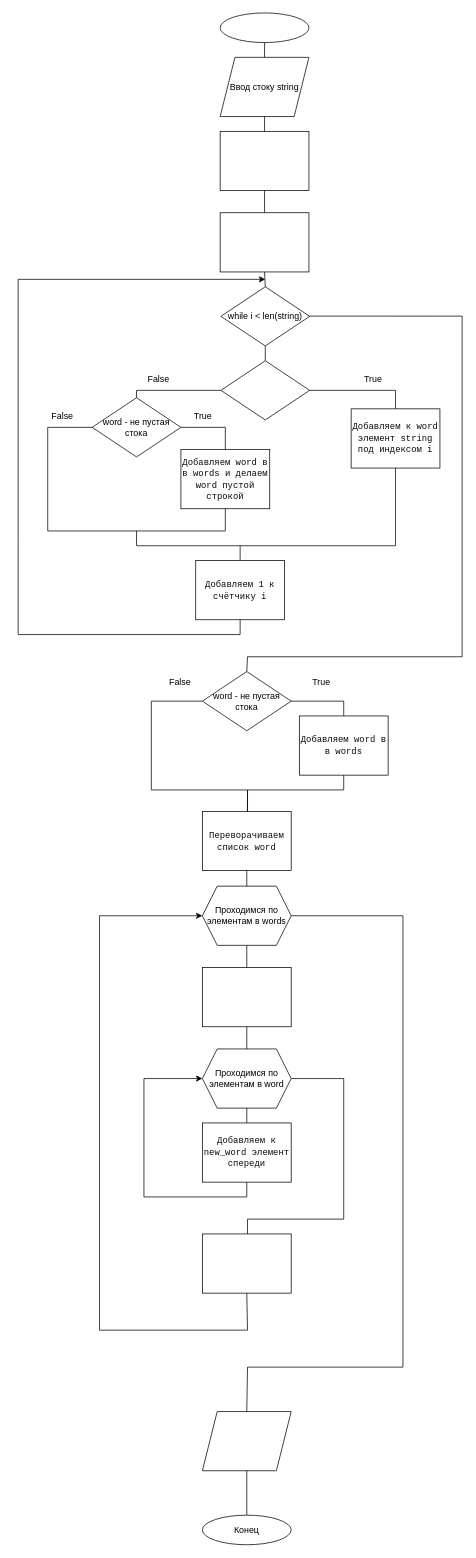
This 476x1558 diagram has some shape labels left out. Here are the shapes that lost their labels. From the top down, the centre of each, then its label:
the point at 264,27: Начало
the point at 264,161: Создаём списки words и new_words
the point at 264,242: Создаём пустую строчку word и счётчик i
the point at 265,390: string[i] != ' '
the point at 246,997: Создаём пустую строку new_word
the point at 246,1263: Добавляем new_word в new_words
the point at 246,1441: Выводим списки words и new_words
